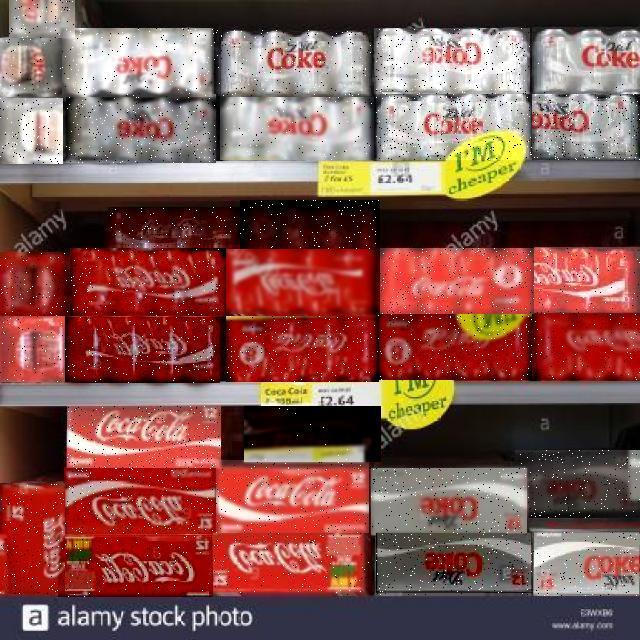Drinks: (216, 460, 369, 534), (62, 28, 216, 97), (376, 92, 532, 160), (71, 249, 227, 317), (66, 94, 216, 163), (65, 317, 221, 383), (375, 28, 531, 94), (216, 30, 372, 96), (371, 469, 527, 535), (64, 468, 218, 534), (379, 315, 533, 381), (380, 249, 534, 315), (226, 250, 380, 316), (226, 316, 379, 382), (221, 97, 375, 160), (214, 534, 370, 596), (376, 534, 532, 596), (59, 535, 213, 597), (67, 407, 221, 469), (515, 450, 640, 518), (244, 406, 381, 462), (532, 27, 640, 95), (0, 483, 65, 594), (534, 312, 640, 380), (532, 94, 640, 160), (534, 247, 640, 313), (240, 200, 380, 249), (533, 532, 639, 596), (108, 208, 240, 248), (0, 252, 69, 316), (0, 316, 65, 382), (0, 98, 63, 164), (0, 38, 62, 97), (9, 0, 75, 38)
